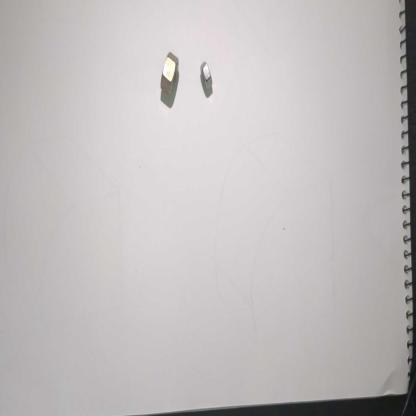NUTS: (157, 47, 185, 103), (198, 59, 215, 93)
